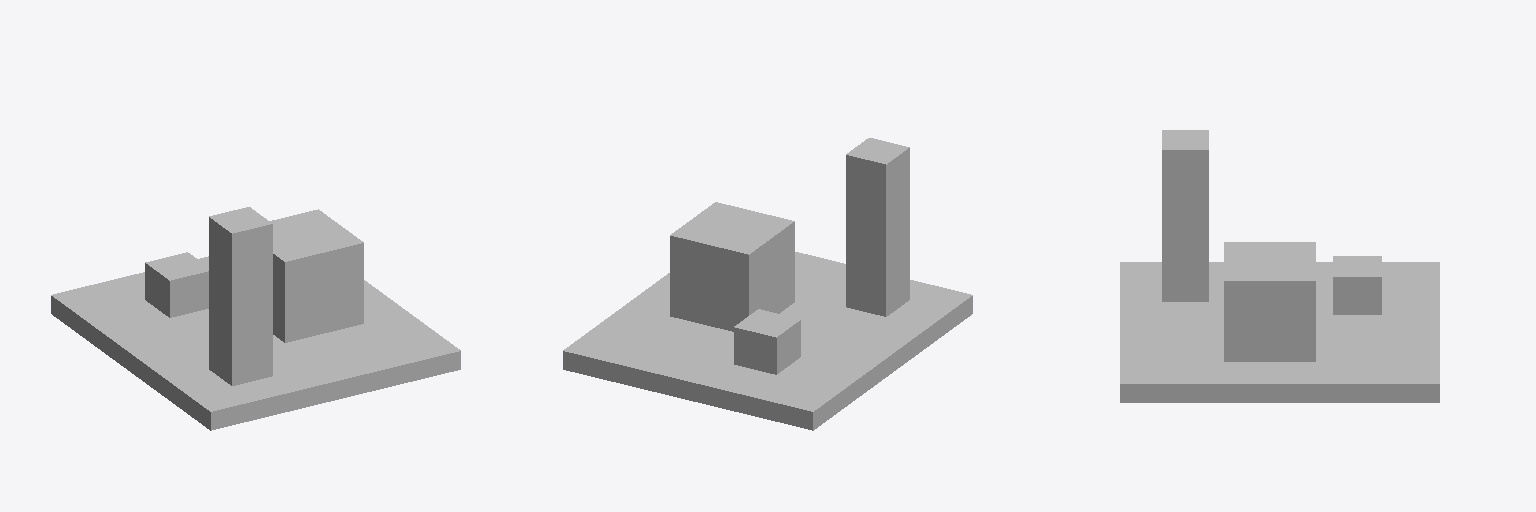
Rendered from testasset.obj.
The picture shows the model from 3 angles: view 1: azimuth 30°, elevation 25°; view 2: azimuth 150°, elevation 25°; view 3: azimuth 270°, elevation 25°; orthographic projection.
Parts seen in each view (by area): view 1: Cube; view 2: Cube; view 3: Cube.
Part boxes in pixels (x1,y1,x2,y2): Cube: (51,207,460,430); Cube: (563,138,972,430); Cube: (1120,130,1439,402).
Size of the model in its own units: 7.36 by 4.8 by 8.13.